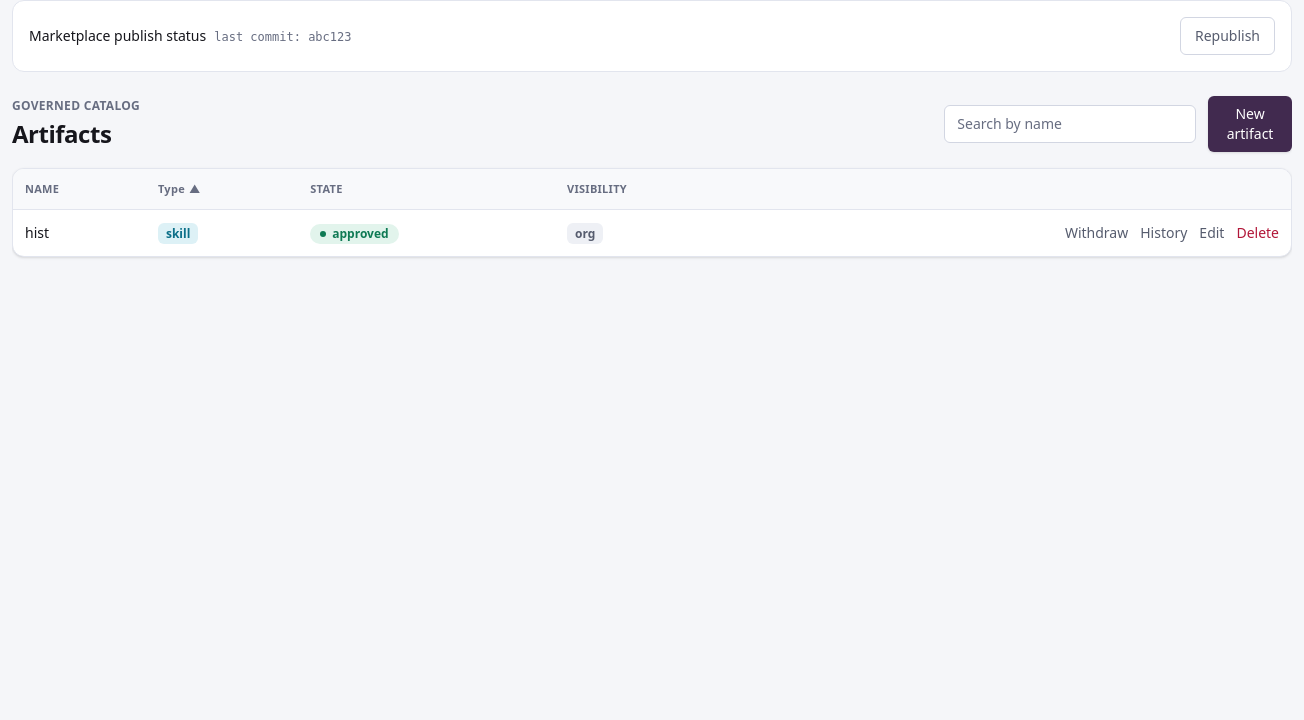
a non-412 set-floor error still renders the ordinary error path, the conflict branch must not swallow it
The image size is (1304, 720).
Step 1. Click the button with aria-label "history for" → (1164, 233), box [1140,223,1187,243]
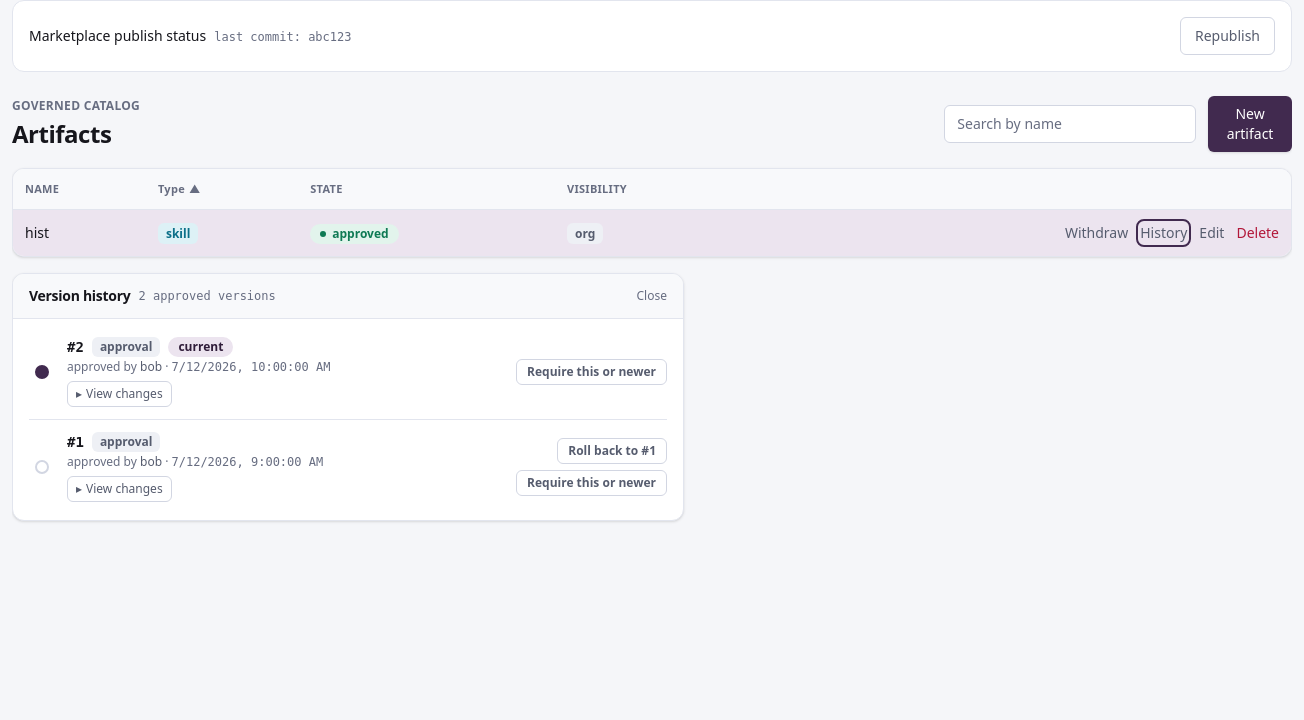
Step 2. Click the button "Require this or newer" below "7/12/2026, 9:00:00 AM" → (592, 483), box [516,470,667,496]
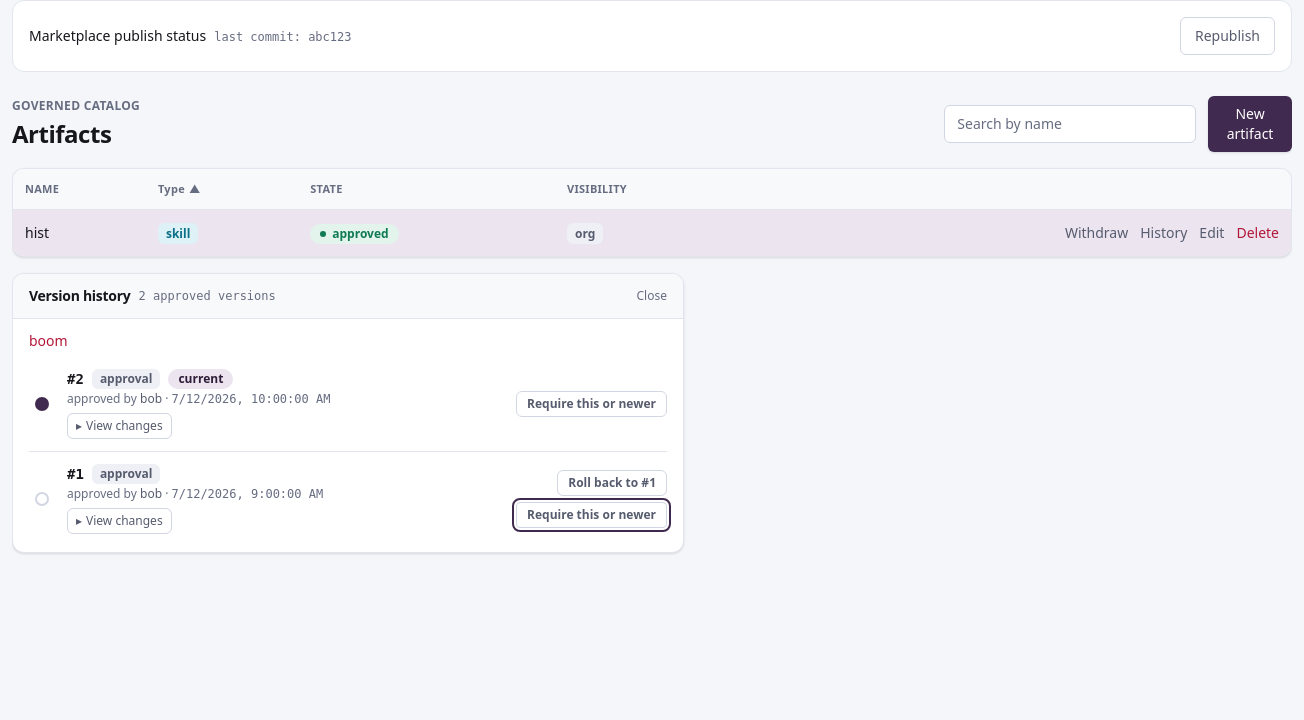
Result: the text "boom" is shown at [29,331,68,350]
